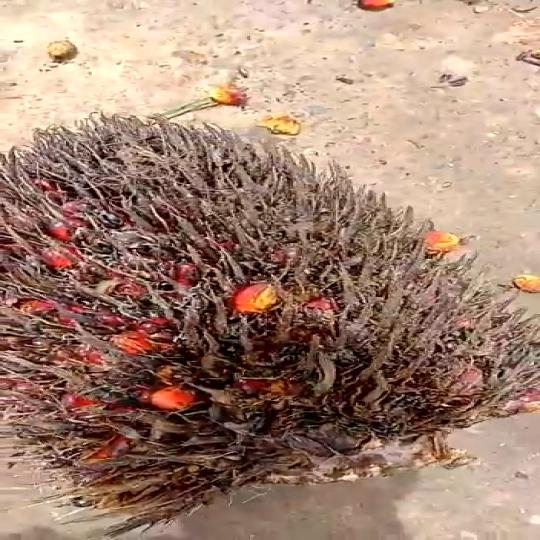terlalu masak: (0, 114, 540, 527)
